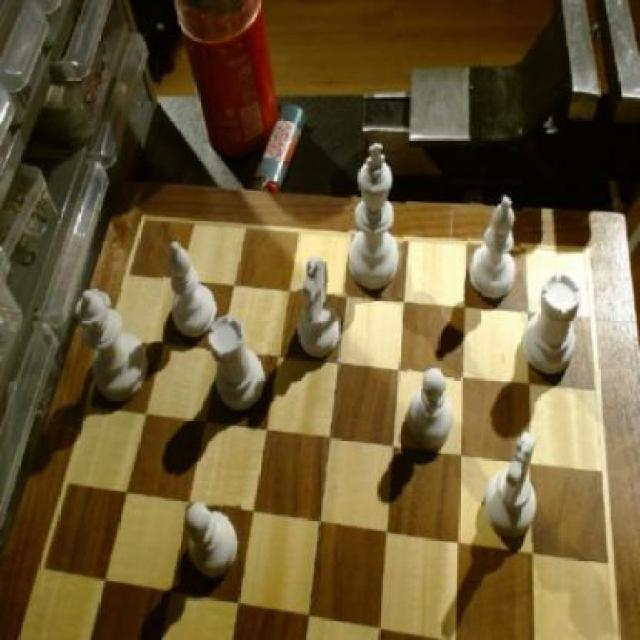black-rook: (466, 191, 522, 307), (164, 240, 226, 344)
white-bishop: (348, 136, 408, 296)
white-king: (484, 428, 546, 542), (295, 260, 347, 361)
white-knight: (183, 500, 245, 585), (405, 365, 459, 453)
white-pawn: (70, 290, 152, 406)
white-queen: (521, 271, 584, 382), (208, 314, 272, 423)
